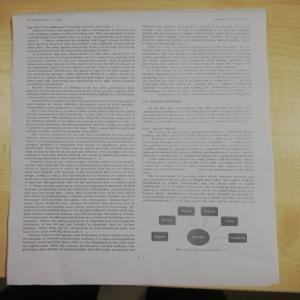diagram: (146, 205, 255, 250)
text: (27, 25, 136, 251), (137, 96, 258, 205), (142, 22, 251, 98)
